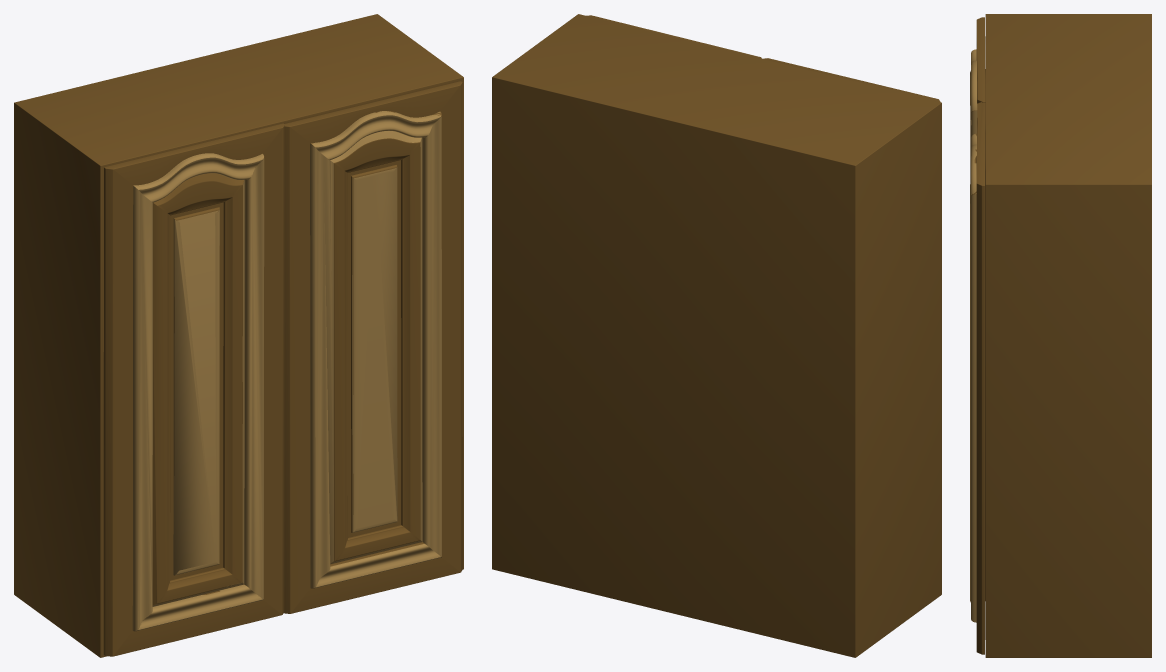
The model's file is Cupboard2.fbx.
3 renders of one model, left to right at view 1: azimuth 30°, elevation 25°; view 2: azimuth 150°, elevation 25°; view 3: azimuth 270°, elevation 25°, orthographic. The views are drawn at different scales.
Parts seen in each view (by area): view 1: closet-door.001, closet-door.002, closet-closed; view 2: closet-closed; view 3: closet-closed, closet-door.002, closet-door.001.
Boxes of the visible parts, x1,y1,x2,y2 form: closet-door.001: (103, 123, 284, 656); closet-door.002: (284, 81, 462, 613); closet-closed: (14, 14, 463, 657); closet-closed: (492, 14, 941, 657); closet-closed: (985, 14, 1151, 657); closet-door.002: (970, 102, 985, 654); closet-door.001: (970, 17, 985, 156).
Size of the model in its own units: 1546 by 2001 by 697.
